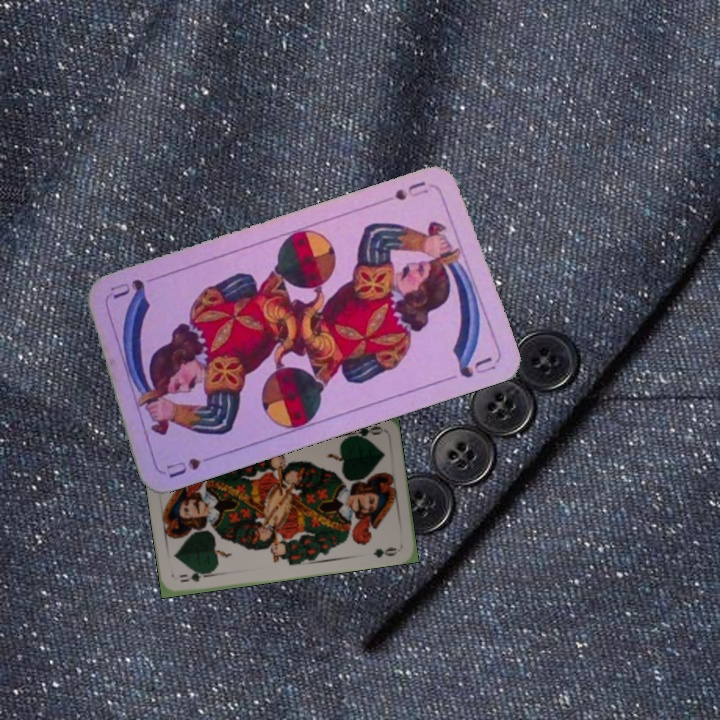GO: (343, 421, 384, 443), (175, 567, 214, 585)
SU: (162, 450, 221, 481), (390, 177, 431, 203)
